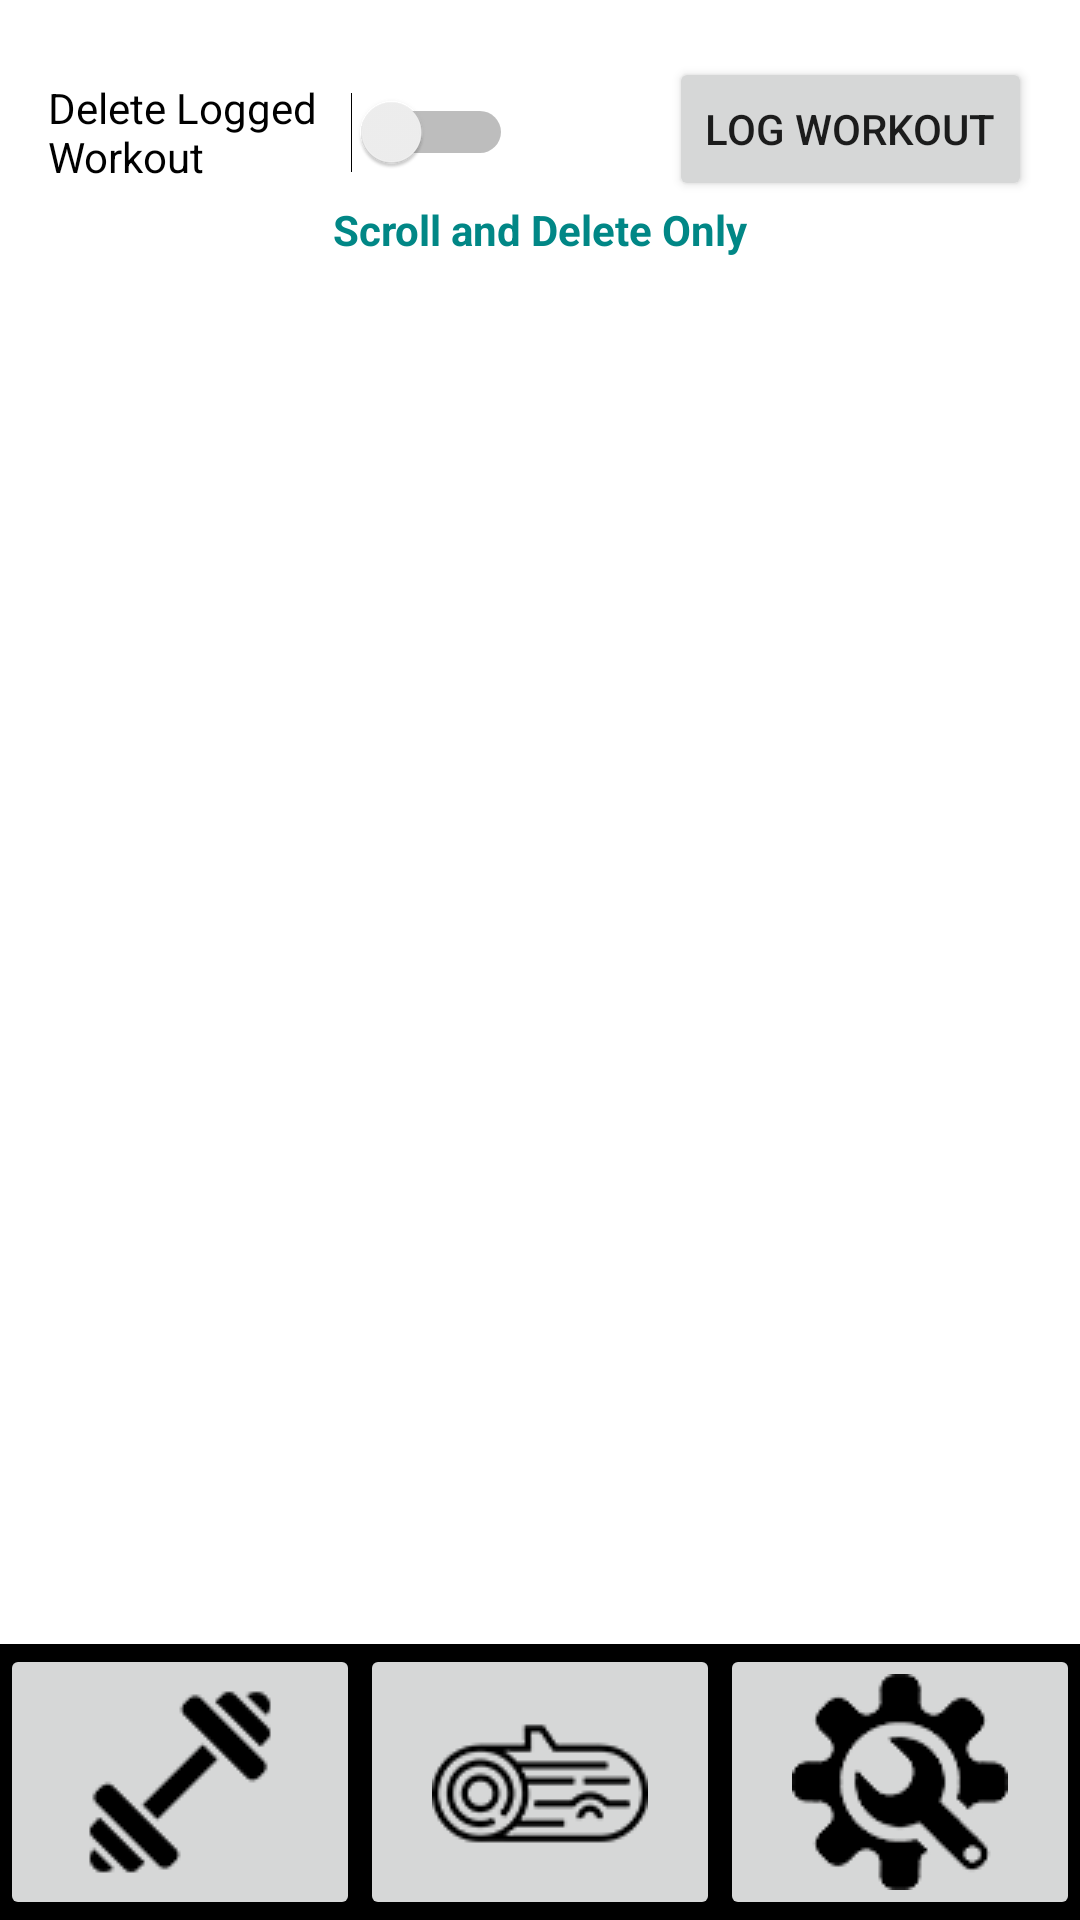

Where to tap for icons on this 1080 x 1920 app screen, as [x,y]:
log button: [540,1782]
settings button: [900,1782]
workout: [180,1782]
